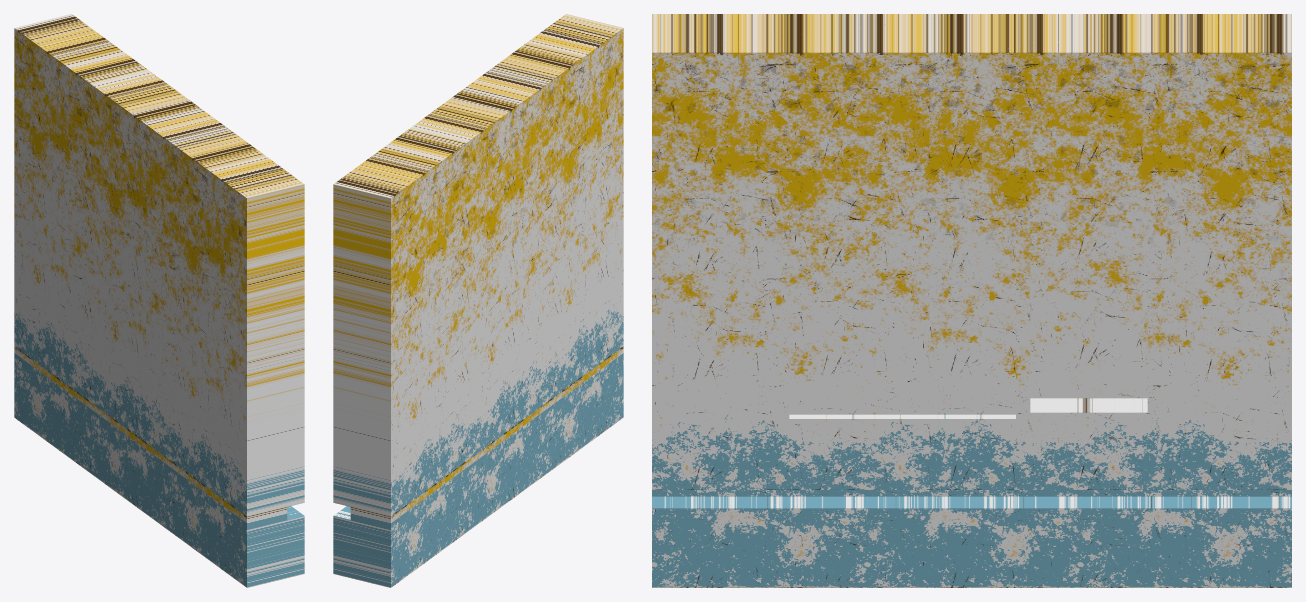
Rendered from Modular_Dungeon_wall_generator_right.fbx.
The picture shows the model from 3 angles, left to right: view 1: azimuth 30°, elevation 25°; view 2: azimuth 150°, elevation 25°; view 3: azimuth 270°, elevation 25°; orthographic projection. The views are drawn at different scales.
Visible parts, largest first — view 1: Wand_Display/Fach_Re_lo; view 2: Wand_Display/Fach_Re_lo; view 3: Wand_Display/Fach_Re_lo.
Boxes of the visible parts, left/top/right/bottom form: Wand_Display/Fach_Re_lo: left=14, top=14, right=304, bottom=587; Wand_Display/Fach_Re_lo: left=333, top=14, right=623, bottom=587; Wand_Display/Fach_Re_lo: left=652, top=14, right=1291, bottom=587.
Bounding box in the file's own units: 40 × 259 × 280.
